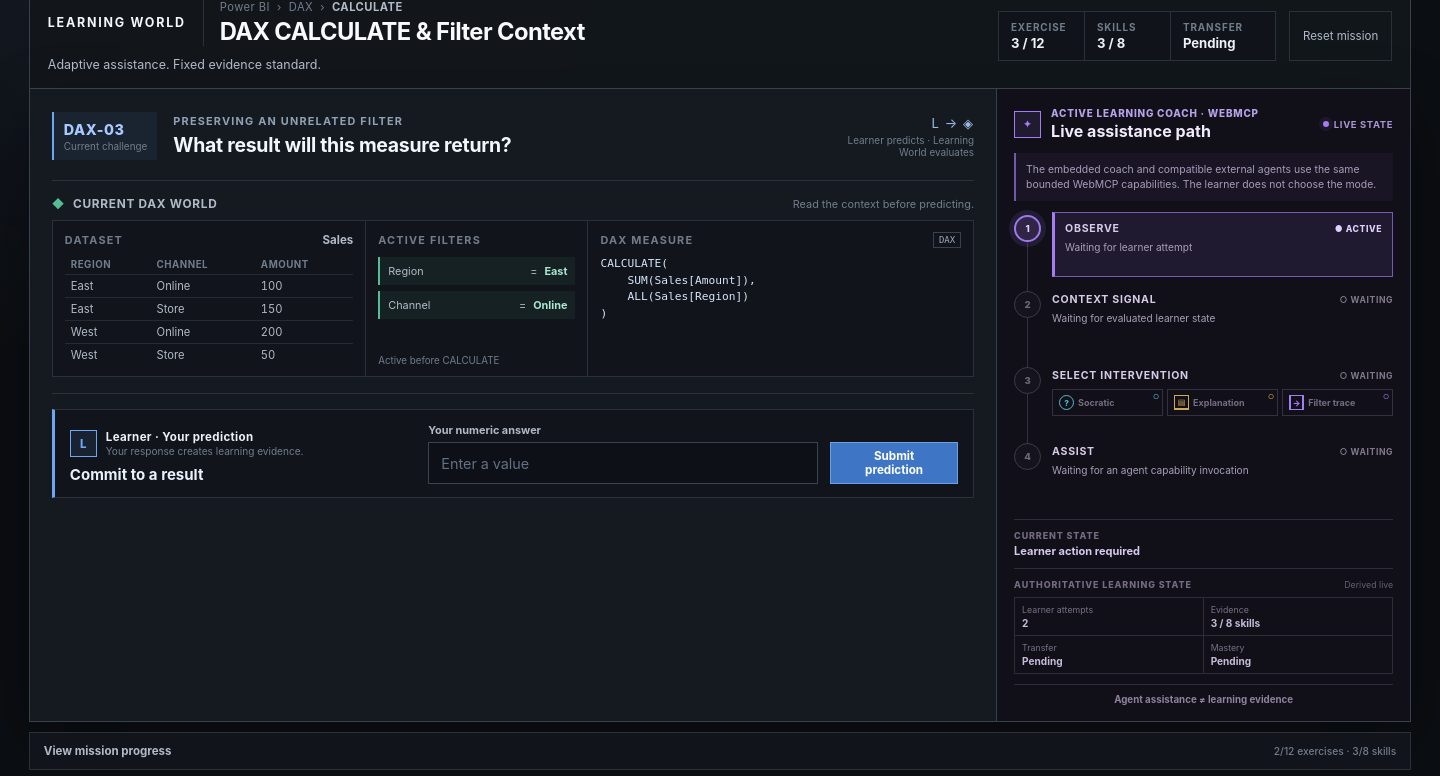
DAX learner attempt flow › shows the complete DAX-03 wrong path across the learner workspace and live agent rail
The image size is (1440, 776).
In the number field labelled "Your numeric answer": (623, 463) [428,442,818,484], type "500"
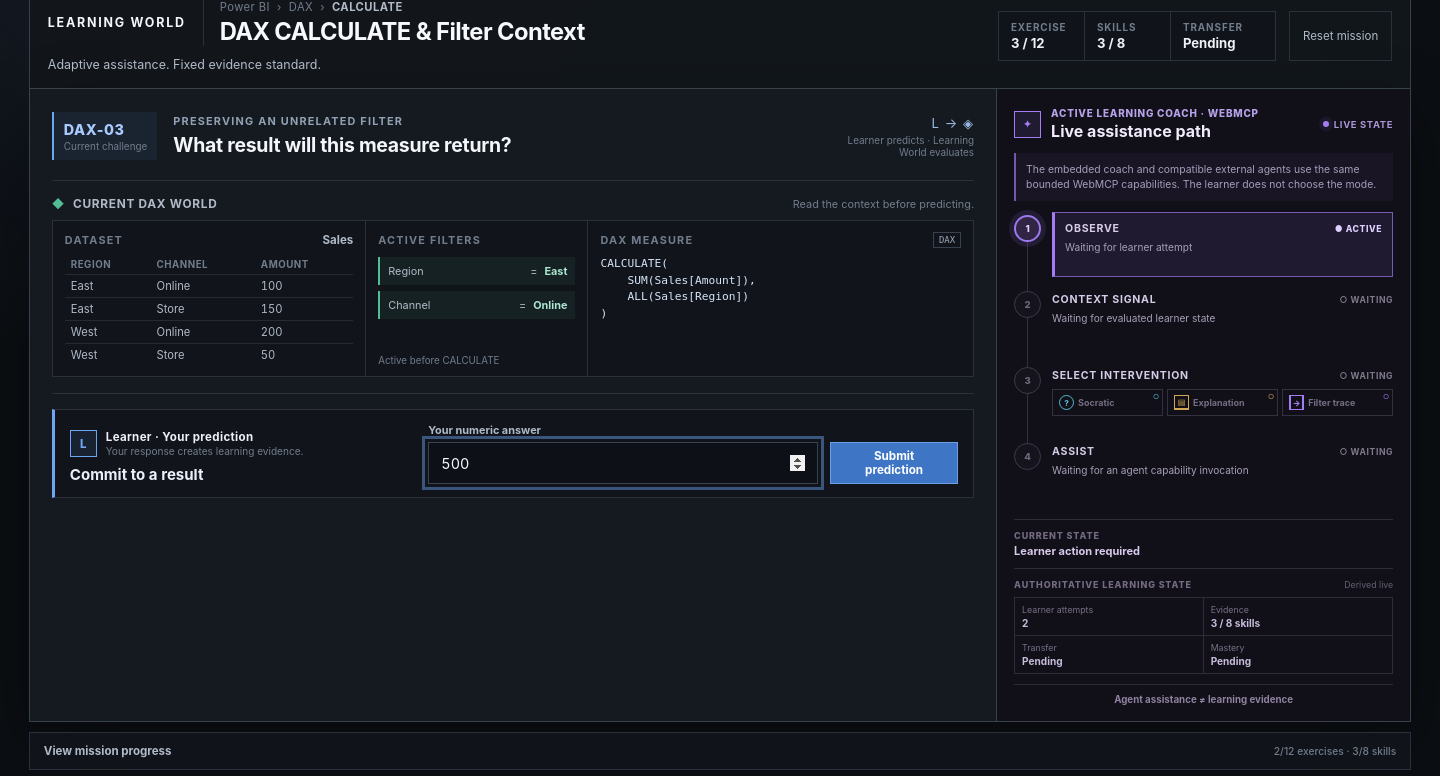
Click the button "Submit prediction": click(894, 463) [830,442,958,484]
(page scrolled)
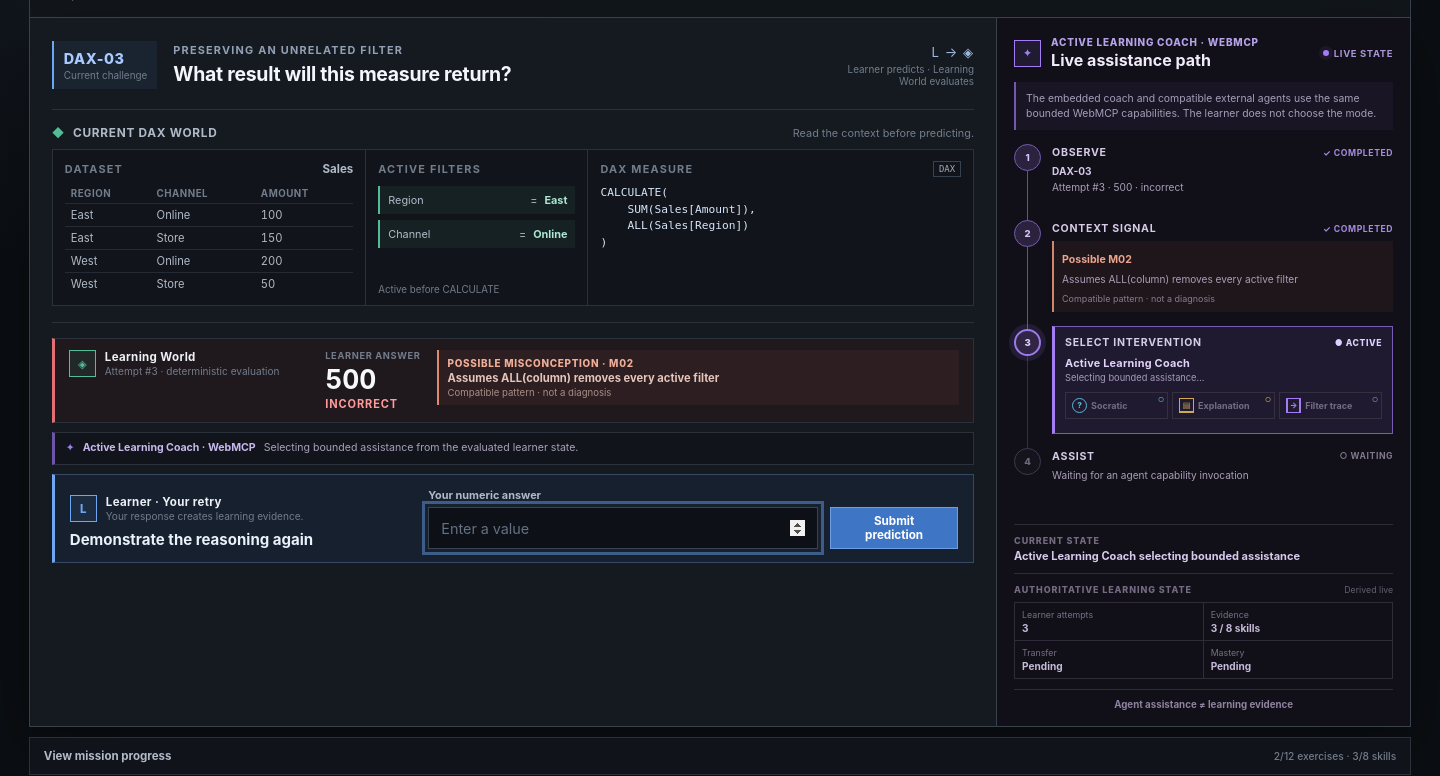
Result: the element named "Learning World evaluation" shows "Possible misconception · M02" at [52,338,974,423]
Result: the element named "AI Agent live path" shows "Attempt #3 · 500 · incorrect" at [996,18,1410,726]
Result: the element named "AI Agent live path" shows "Possible M02" at [996,18,1410,726]
